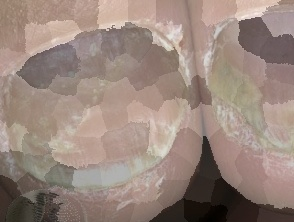Nail_psoriasis: (0, 1, 197, 220), (196, 0, 294, 194)
